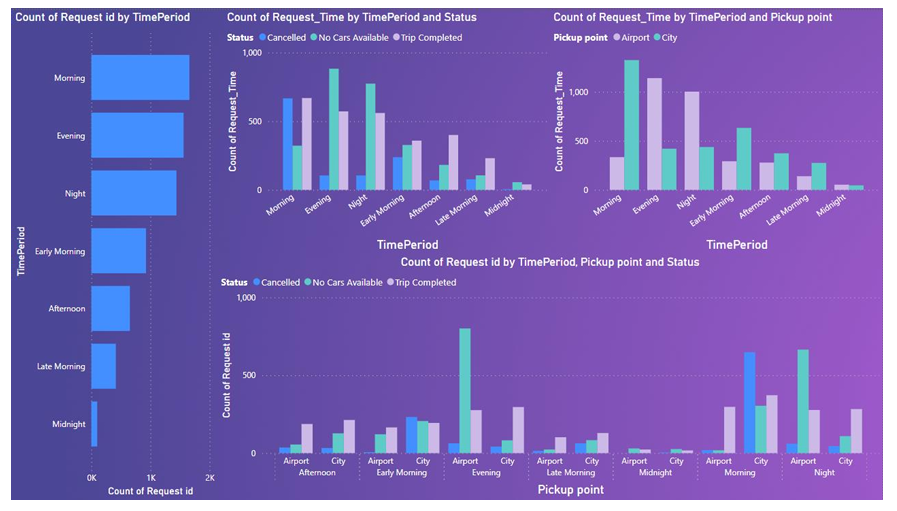

This screenshot's page, from the dashboard's own definition file:
{"tool":"powerbi","page":{"name":"Time","canvas":[1280,720],"ordinal":1},"visuals":[{"type":"clusteredColumnChart","fields":{"Category":["Uber Request Data.Request_Time Hierarchy.TimePeriod"],"Y":["CountNonNull(Uber Request Data.Request_Time)"],"Series":["Uber Request Data.Status"]},"box":[311.2,0,480,360],"z":0},{"type":"clusteredColumnChart","fields":{"Category":["Uber Request Data.Request_Time Hierarchy.TimePeriod"],"Y":["CountNonNull(Uber Request Data.Request_Time)"],"Series":["Uber Request Data.Pickup point"]},"box":[791.2,0,488.8,360],"z":1000},{"type":"clusteredColumnChart","fields":{"Category":["Uber Request Data.Request_Time Hierarchy.TimePeriod","Uber Request Data.Pickup point"],"Series":["Uber Request Data.Status"],"Y":["CountNonNull(Uber Request Data.Request id)"]},"box":[302.5,360,977.5,360],"z":2000},{"type":"barChart","fields":{"Y":["CountNonNull(Uber Request Data.Request id)"],"Category":["Uber Request Data.TimePeriod"]},"box":[0,0,302.5,720],"z":3000}]}

Visuals, with their boxes in screenshot pixels (x1, y1, x2, y2), scaled from the page's 1280x720 canvas onto the 897x511 screenshot:
clusteredColumnChart - Uber Request Data.Request_Time Hierarchy.TimePeriod x CountNonNull(Uber Request Data.Request_Time): bbox(218, 0, 554, 256)
clusteredColumnChart - Uber Request Data.Request_Time Hierarchy.TimePeriod x CountNonNull(Uber Request Data.Request_Time): bbox(554, 0, 896, 256)
clusteredColumnChart - Uber Request Data.Request_Time Hierarchy.TimePeriod x Uber Request Data.Pickup point: bbox(212, 256, 896, 510)
barChart - CountNonNull(Uber Request Data.Request id) x Uber Request Data.TimePeriod: bbox(0, 0, 212, 510)
